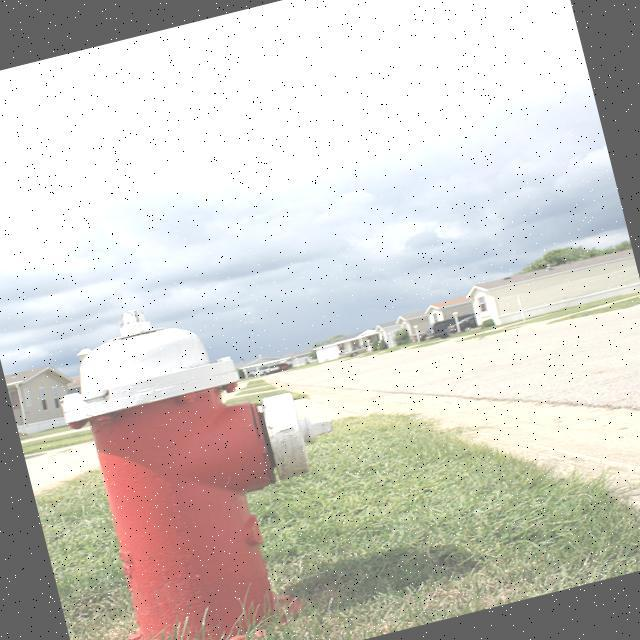fire_hydrant: (32, 266, 385, 640)
